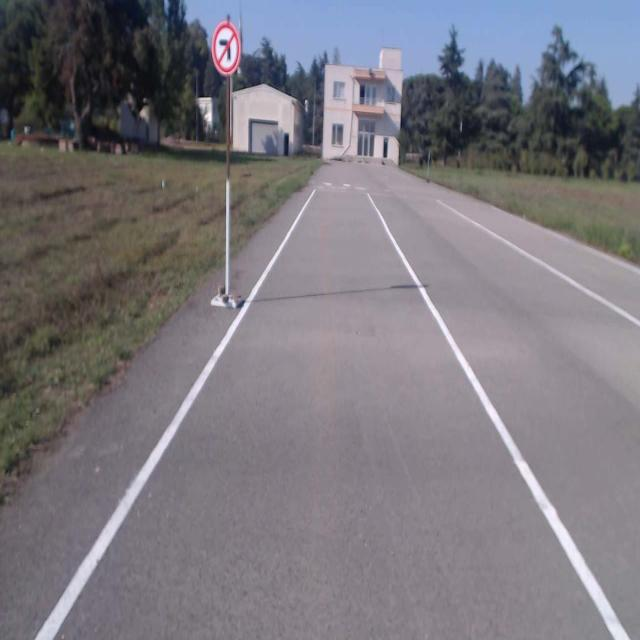soladonulmez: (211, 21, 239, 74)
